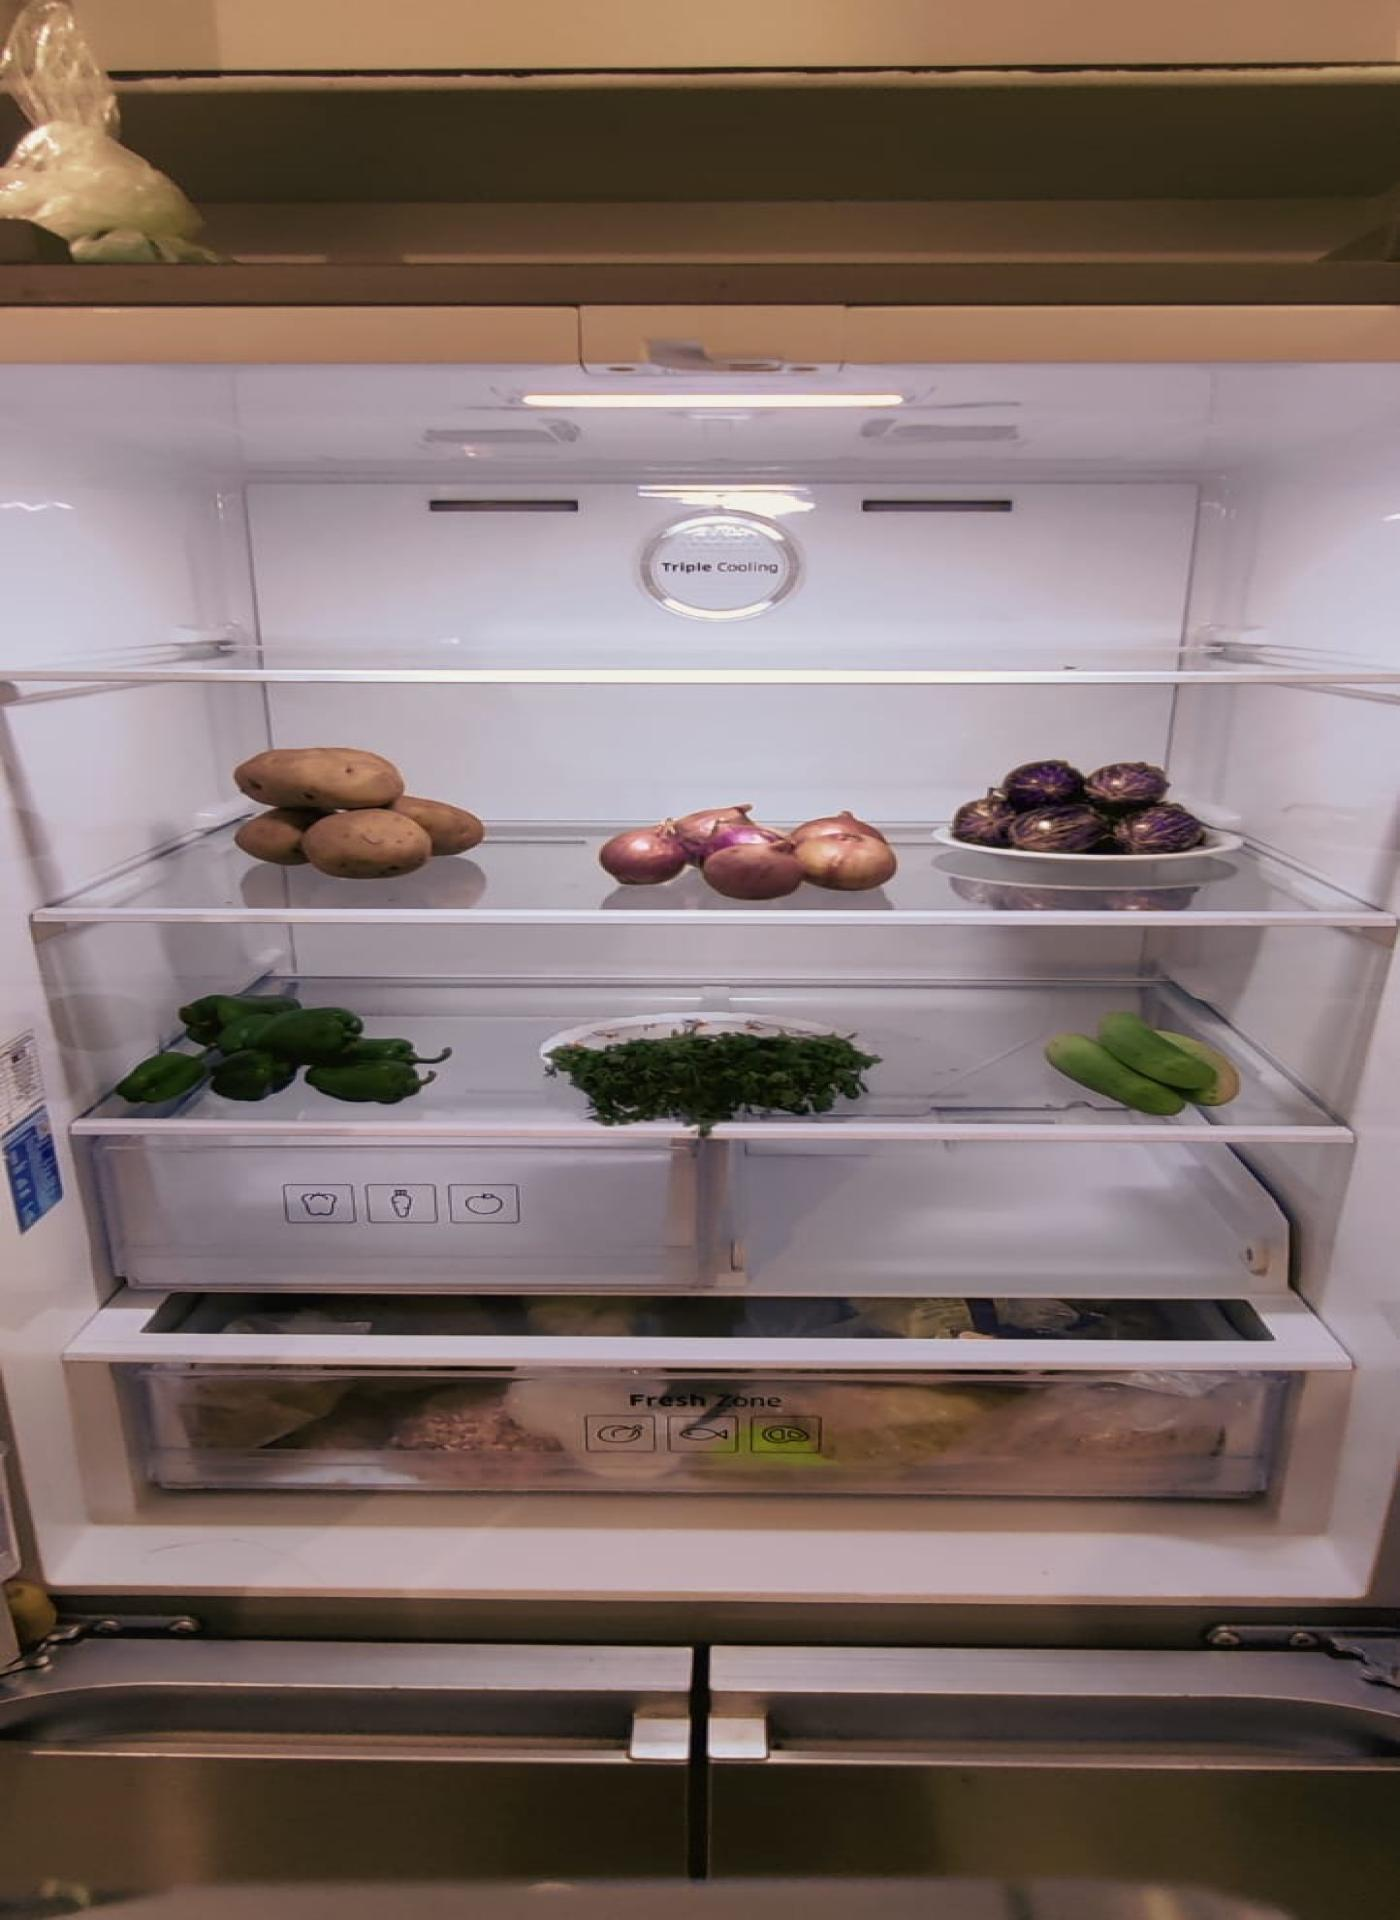brinjal: (947, 760, 1229, 853)
capsicum: (125, 988, 440, 1103)
coriander: (550, 1024, 871, 1124)
cucumber: (1042, 1012, 1242, 1115)
onion: (604, 803, 906, 900)
potato: (233, 745, 488, 880)
